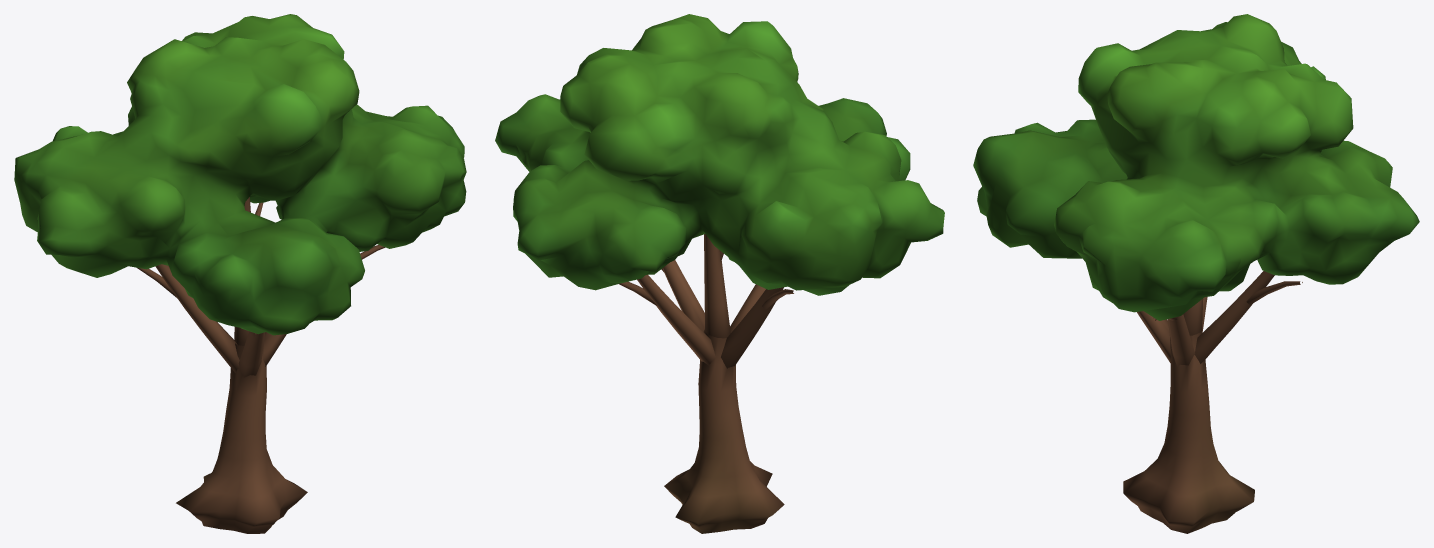
The model's file is tree-broadleaf-a.glb.
The picture shows the model from 3 angles, left to right: view 1: azimuth 30°, elevation 25°; view 2: azimuth 150°, elevation 25°; view 3: azimuth 270°, elevation 25°; orthographic projection. The views are drawn at different scales.
Visible parts, largest first — view 1: Broadleaf A Leaves, Broadleaf A Bark; view 2: Broadleaf A Leaves, Broadleaf A Bark; view 3: Broadleaf A Leaves, Broadleaf A Bark.
Boxes of the visible parts, <box> form: Broadleaf A Leaves: <box>14,14,466,335</box>; Broadleaf A Bark: <box>137,197,385,533</box>; Broadleaf A Leaves: <box>495,14,944,295</box>; Broadleaf A Bark: <box>619,234,793,533</box>; Broadleaf A Leaves: <box>973,14,1419,320</box>; Broadleaf A Bark: <box>1123,271,1302,533</box>.
Size of the model in its own units: 8.07 by 8.45 by 7.14.
